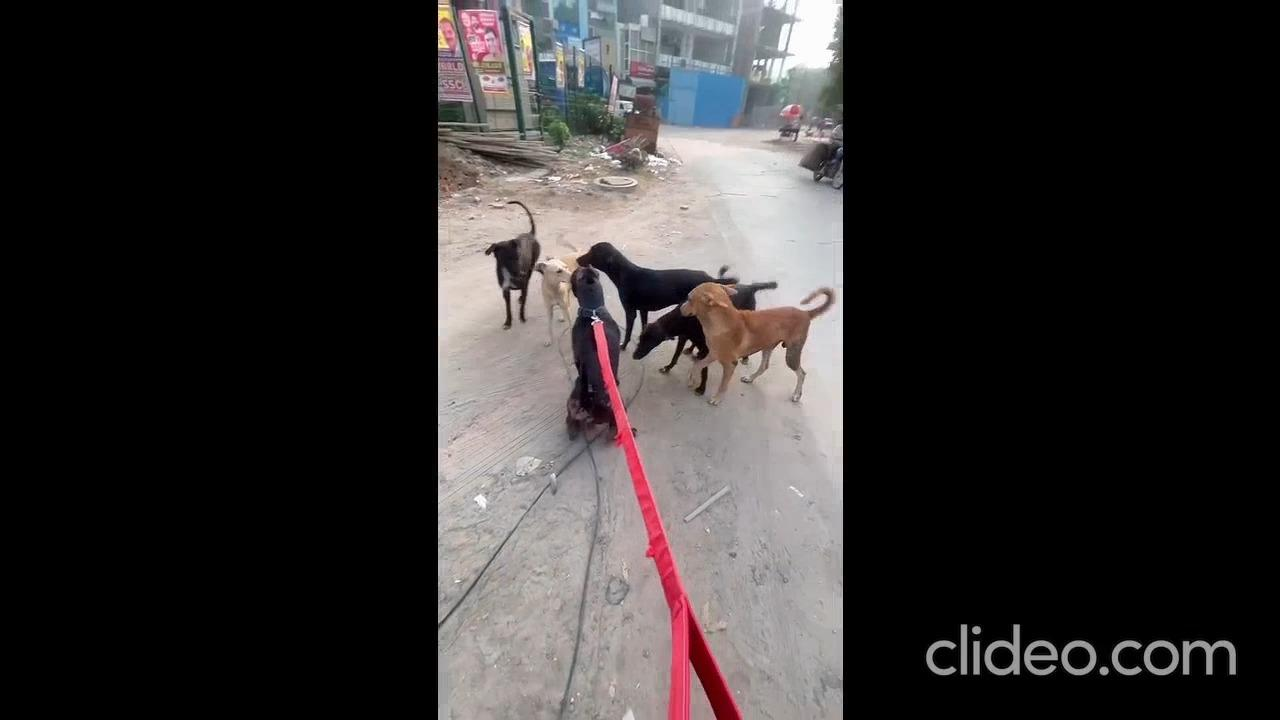dog: (573, 231, 751, 367), (664, 275, 838, 407), (617, 277, 781, 381), (473, 191, 535, 321), (529, 237, 578, 345)
